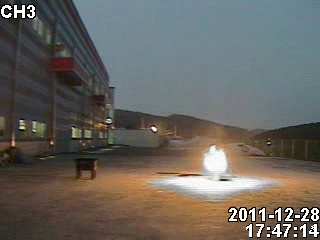fire: (201, 142, 227, 174)
